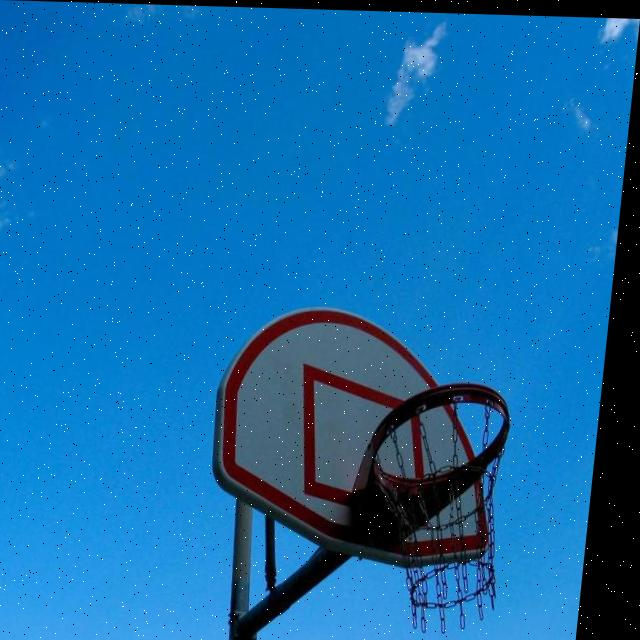hoop: (353, 380, 519, 635)
